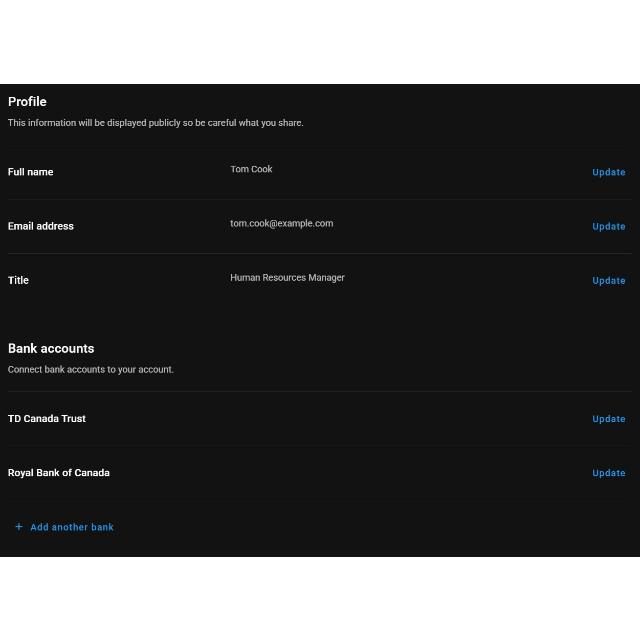QLabel: (8, 116, 304, 130), (6, 364, 174, 374), (5, 466, 113, 478), (228, 272, 346, 282), (227, 217, 335, 227), (7, 219, 75, 233), (5, 342, 96, 352), (4, 413, 88, 423), (30, 522, 114, 532), (6, 166, 56, 178), (7, 94, 49, 108), (228, 162, 276, 172), (592, 221, 628, 231), (591, 468, 627, 478), (592, 166, 628, 176), (591, 413, 627, 422), (592, 276, 628, 284), (6, 275, 30, 285)
VDivider: (4, 388, 632, 394), (4, 444, 628, 448), (8, 142, 632, 146), (9, 498, 632, 502), (4, 252, 626, 254), (4, 198, 626, 200)
VIcon: (15, 522, 23, 530)
